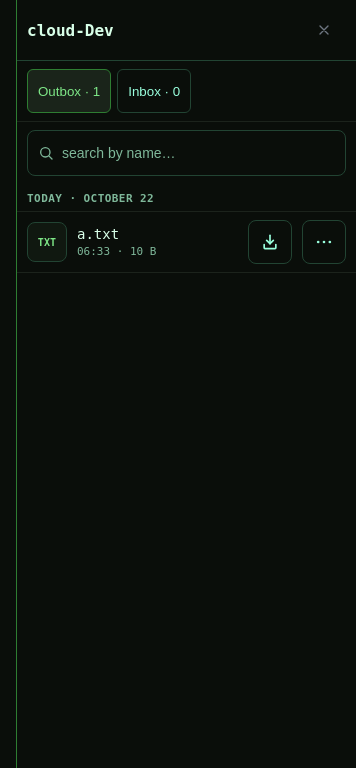
Test: FilesPanel download — gli errori di rete non sono muti › un reject di rete nel download produce un messaggio visibile
The width and height of the screenshot is (356, 768).
Expected: the text "a.txt" is shown, [77, 226, 119, 242]
Click the button titled "download file" at point(270, 242), box [248, 220, 292, 264]
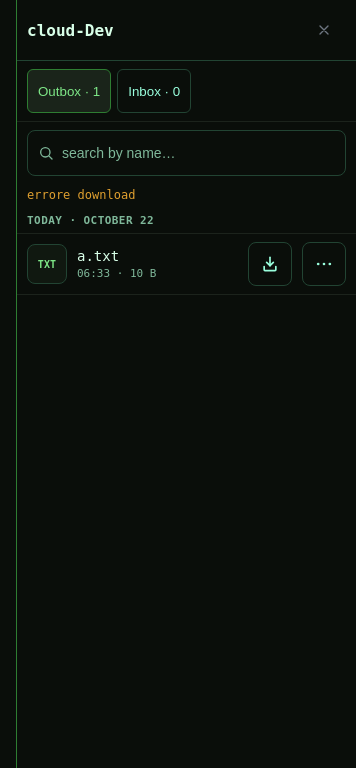
Now the text "errore download" is shown, box [27, 188, 135, 202]
